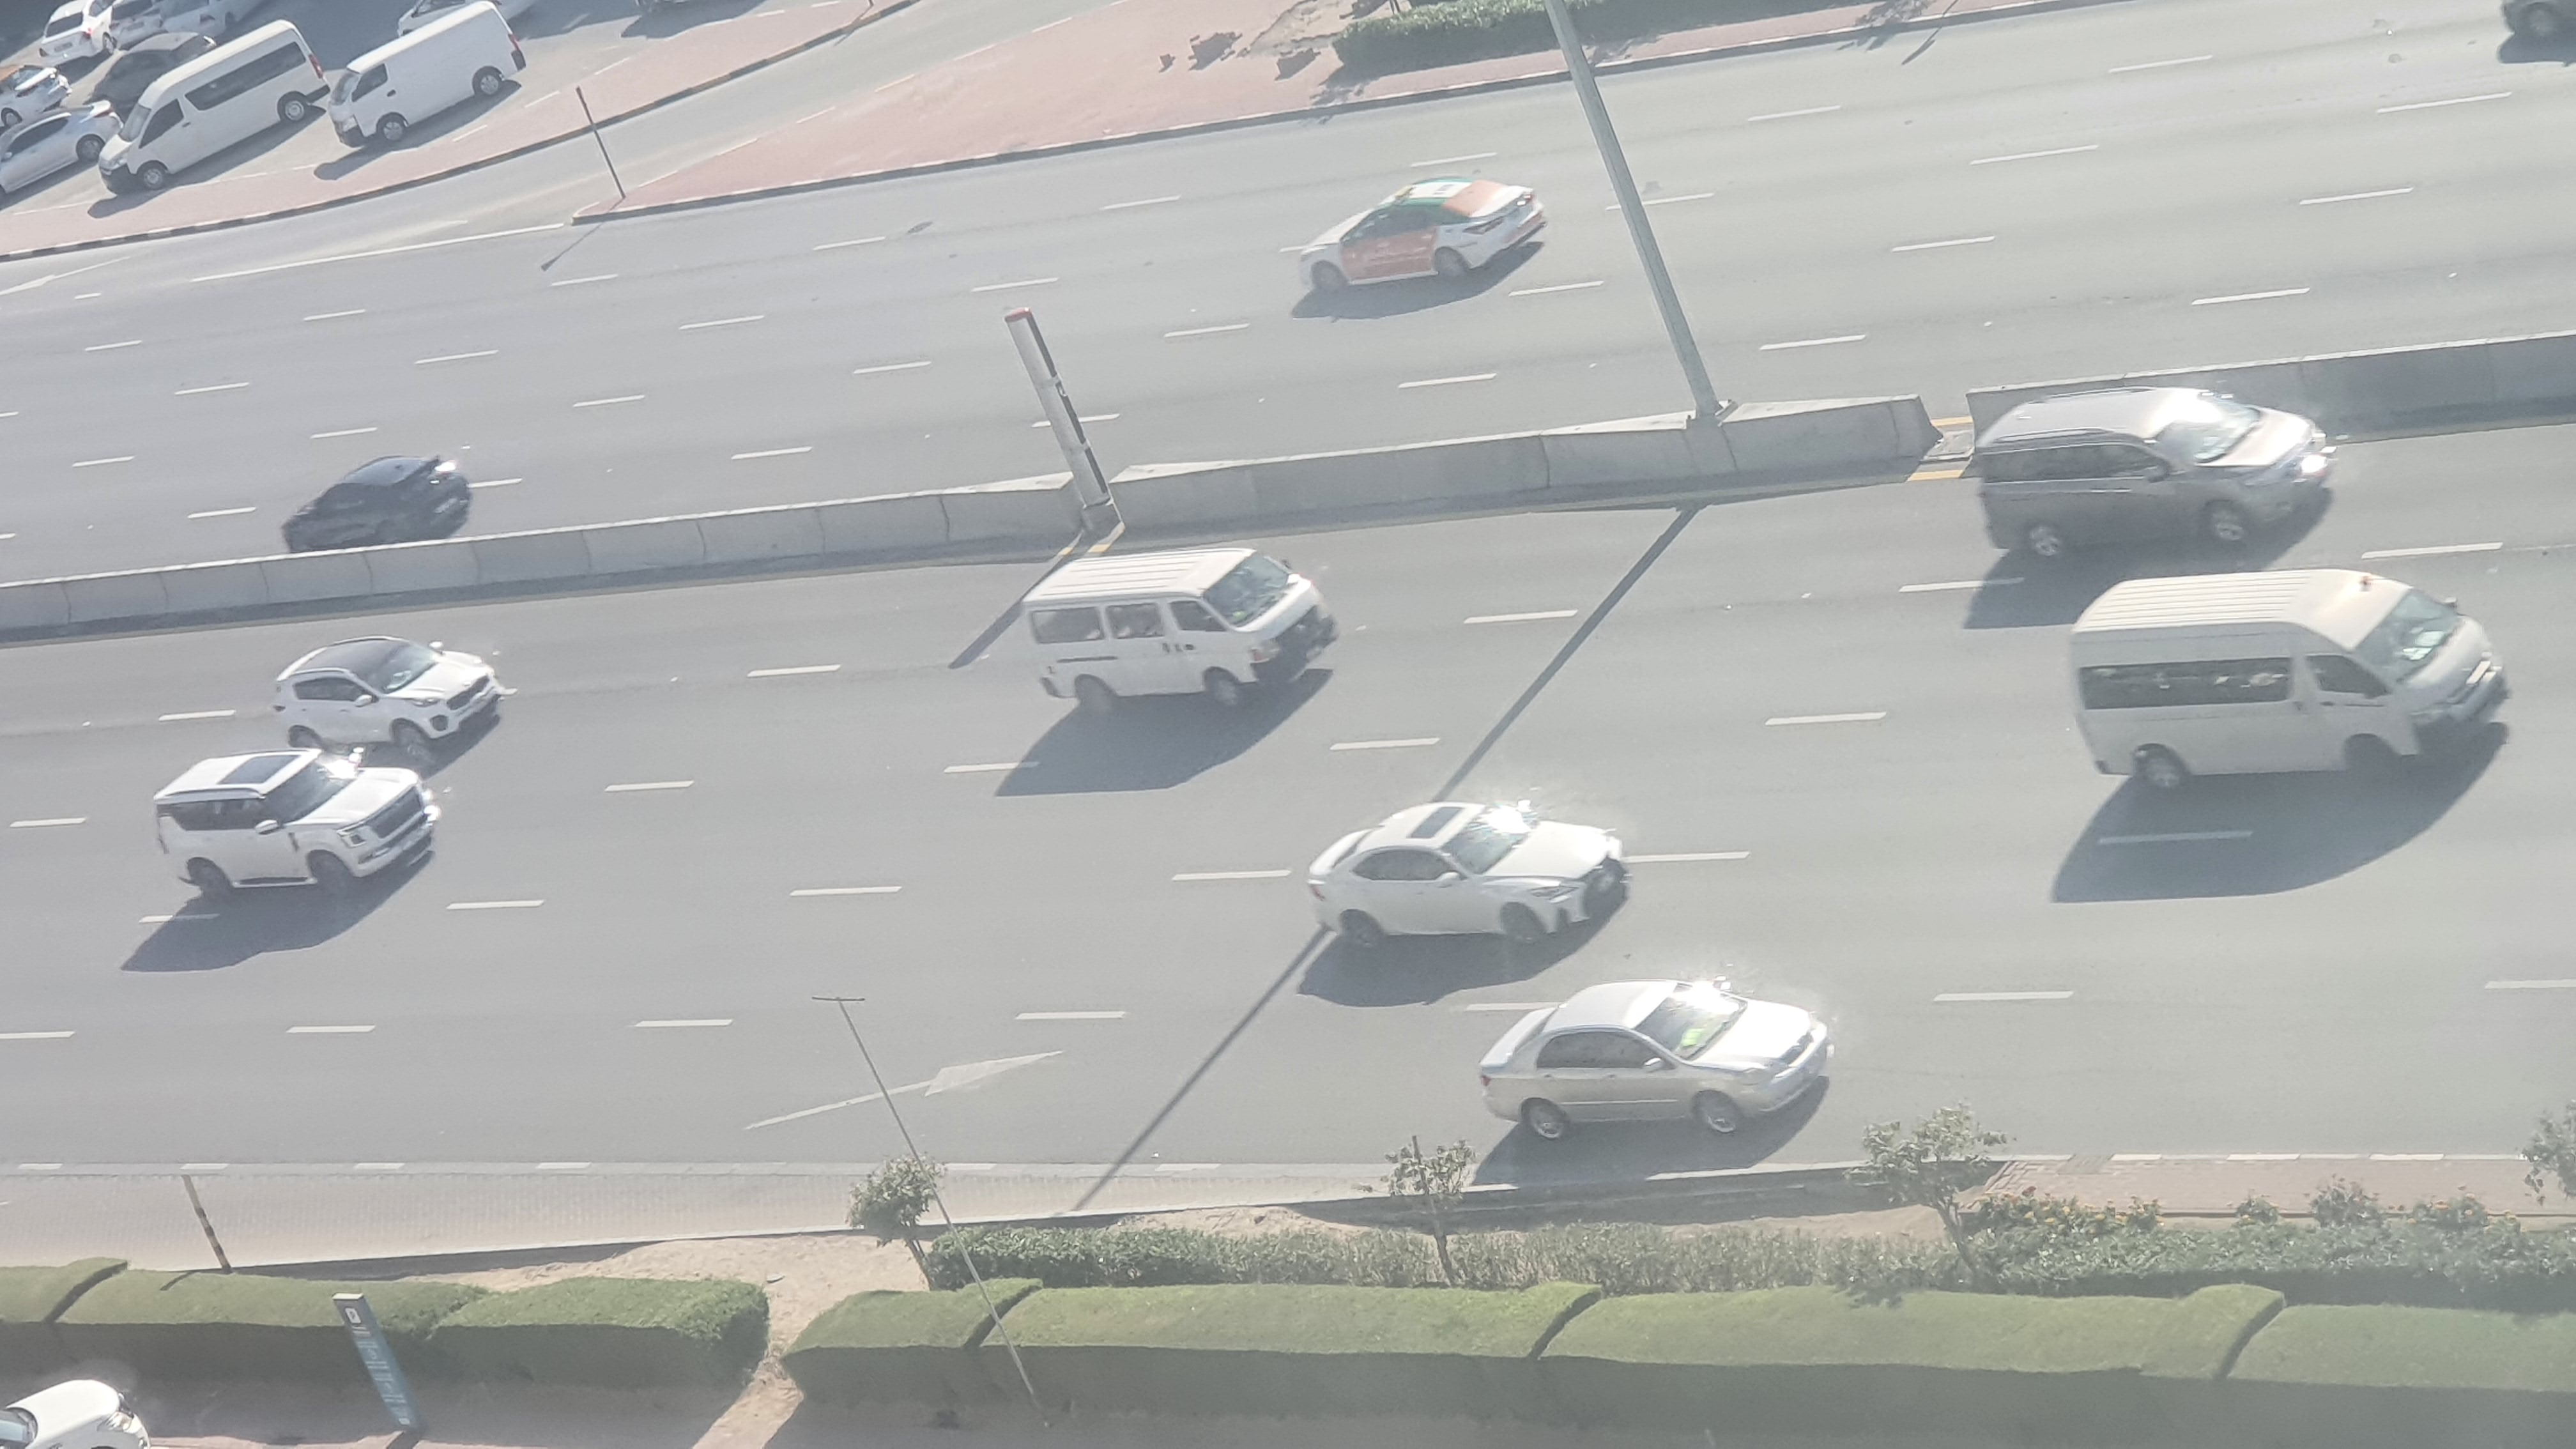NotSunroof: (1971, 387, 2339, 563), (1474, 978, 1836, 1146), (274, 642, 501, 752)
Sunroof: (1302, 796, 1631, 952), (147, 752, 439, 902)
